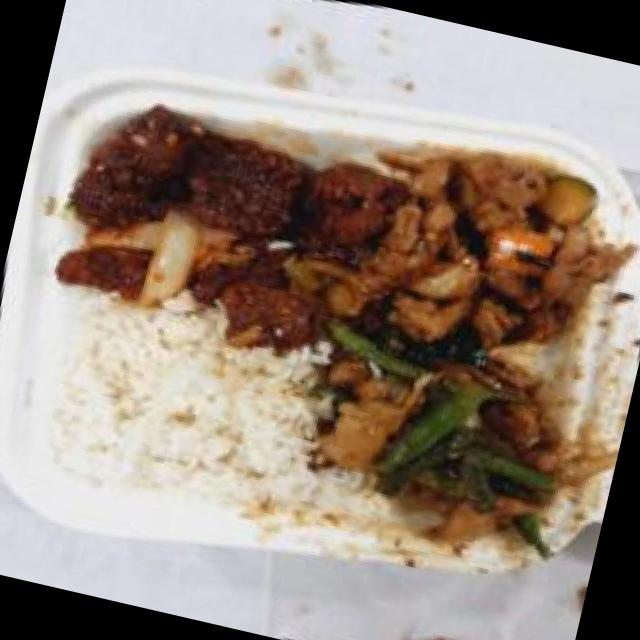Beijing Beef: (28, 62, 404, 370)
Kung Pao Chicken: (306, 98, 640, 404)
String Bean Chicken Breast: (293, 306, 602, 576)
White Steamed Rice: (26, 276, 342, 542)
